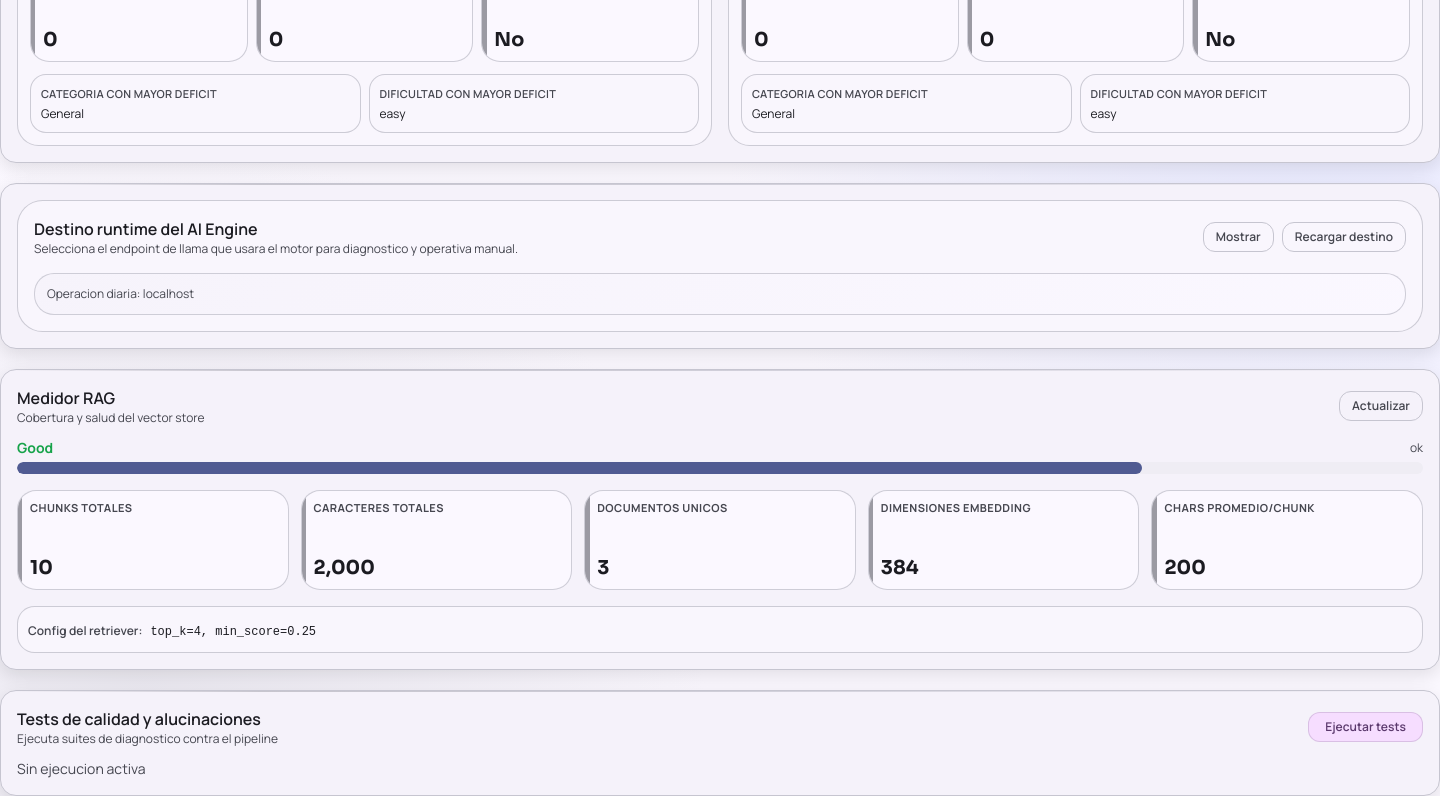
Test: AIDiagnosticsPanel integration › polls test status without overlapping requests and stops after completion
(page scrolled)
Click the button "Ejecutar tests".
click(1366, 727)  # box [1308,712,1423,742]
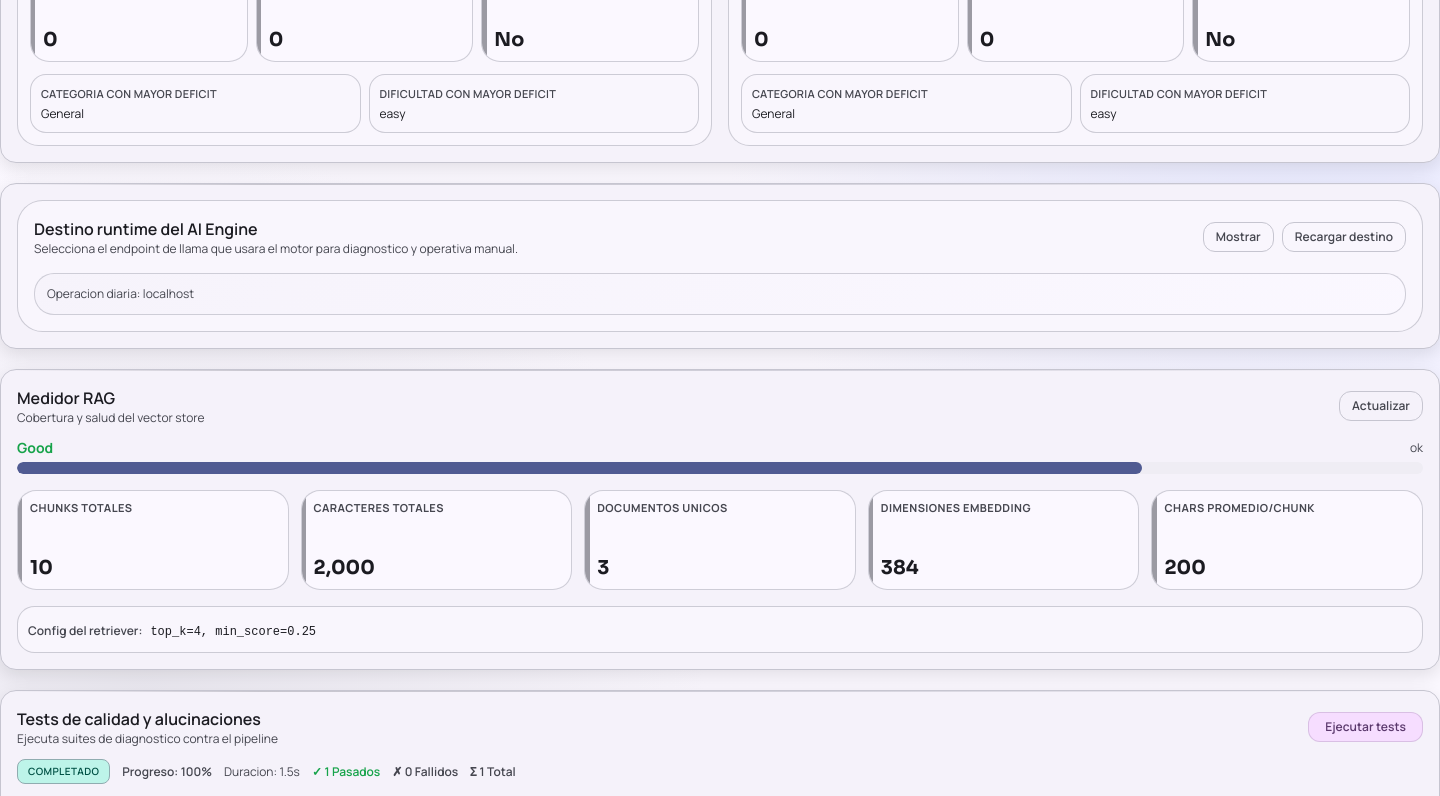
Expected: the text "Completado" is shown, [17,759,110,784]
